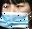with_mask: (1, 2, 32, 29)
